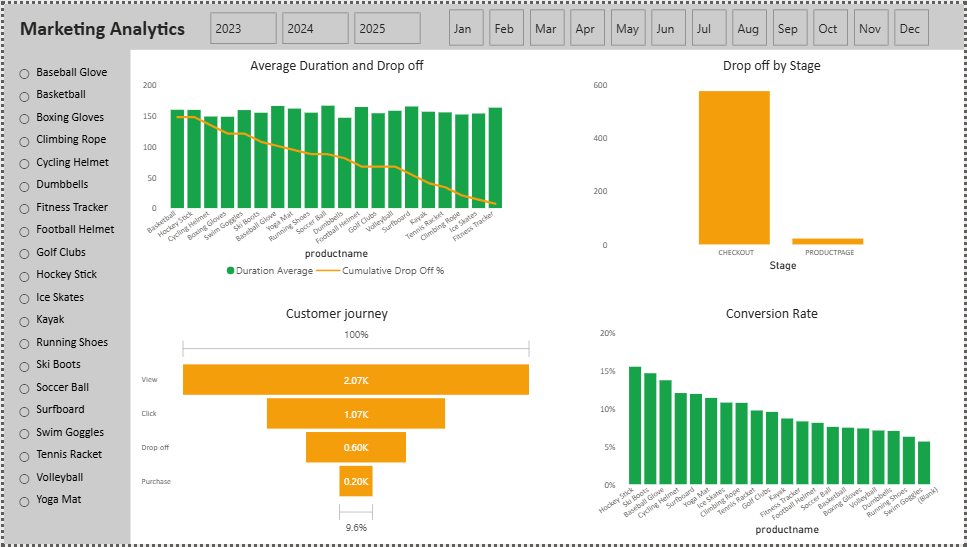

Layout of this report page (visuals, bound fields, positions):
{"tool":"powerbi","page":{"name":"Conversion and Drop-off ","canvas":[1280,720],"ordinal":1},"visuals":[{"type":"listSlicer","fields":{"Values":["dim_products.productname"]},"box":[0,53.3,168.9,666.7],"z":0},{"type":"shape","box":[0,0,1280,61.1],"z":1000},{"type":"textbox","box":[15.1,9.1,240.9,44.3],"z":2000},{"type":"advancedSlicerVisual","fields":{"Values":["Calendar.Year"]},"box":[269.1,5,292.3,52.4],"z":3000},{"type":"advancedSlicerVisual","fields":{"Values":["Calendar.MonthNameShort"]},"box":[568.4,1,699.5,58.5],"z":4000},{"type":"lineStackedColumnComboChart","title":"Average Duration and Drop off","fields":{"Category":["dim_products.productname"],"Y2":["_Calculation.Cumulative Drop Off %"],"Y":["_Calculation.Duration Average"]},"box":[177.2,70,531.7,304.1],"z":5000},{"type":"columnChart","title":"Drop off by Stage","fields":{"Category":["fact_customer_journey.Stage"],"Y":["_Calculation.Drop off Count"]},"box":[779.8,69.7,487.8,290.2],"z":6000},{"type":"funnel","title":"Customer journey","fields":{"Category":["fact_customer_journey.Action"],"Y":["CountNonNull(fact_customer_journey.Action)"]},"box":[177.2,399.3,531.7,312.9],"z":7000},{"type":"clusteredColumnChart","title":"Conversion Rate","fields":{"Category":["dim_products.productname"],"Y":["_Calculation.Conversion Rate"]},"box":[780,399,488,313],"z":8000}]}

Visuals, with their boxes in screenshot pixels (x1, y1, x2, y2), scaled from the page's 1280x720 canvas onto the 967x547 screenshot:
listSlicer - dim_products.productname: {"left": 0, "top": 40, "right": 128, "bottom": 546}
shape: {"left": 0, "top": 0, "right": 966, "bottom": 46}
textbox: {"left": 11, "top": 7, "right": 193, "bottom": 41}
advancedSlicerVisual - Calendar.Year: {"left": 203, "top": 4, "right": 424, "bottom": 44}
advancedSlicerVisual - Calendar.MonthNameShort: {"left": 429, "top": 1, "right": 958, "bottom": 45}
"Average Duration and Drop off" lineStackedColumnComboChart: {"left": 134, "top": 53, "right": 536, "bottom": 284}
"Drop off by Stage" columnChart: {"left": 589, "top": 53, "right": 958, "bottom": 273}
"Customer journey" funnel: {"left": 134, "top": 303, "right": 536, "bottom": 541}
"Conversion Rate" clusteredColumnChart: {"left": 589, "top": 303, "right": 958, "bottom": 541}
